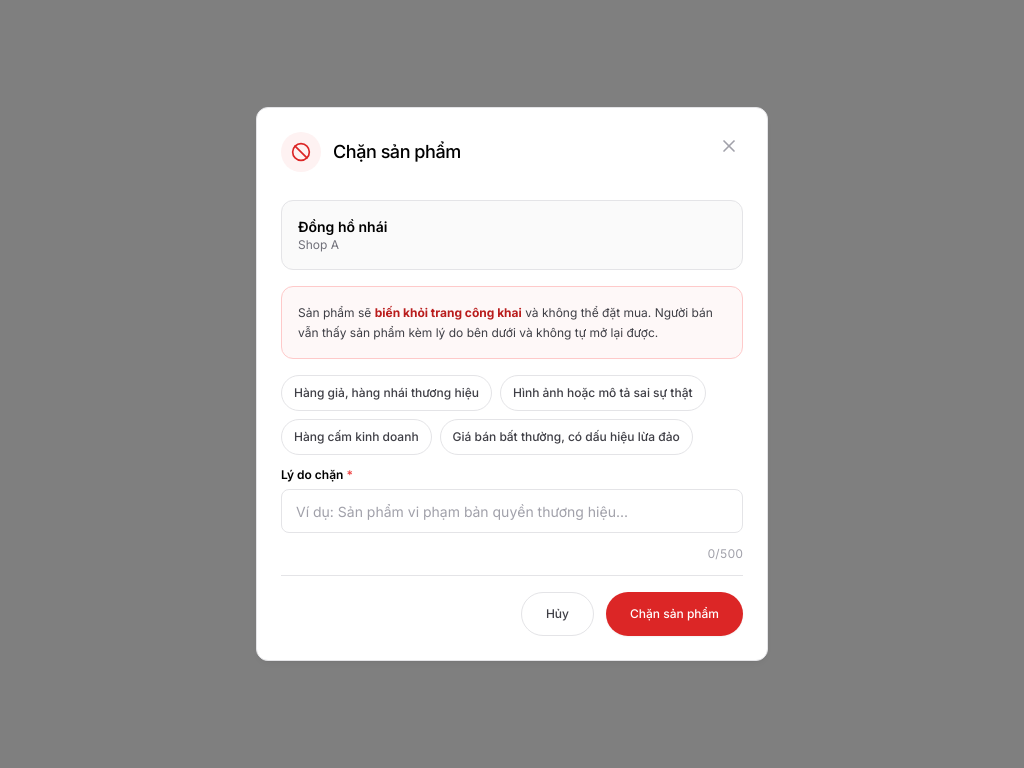
Test: BlockProductDialog › lý do quá ngắn: báo lỗi
Type "abc" into the field labelled "Lý do chặn" at (512, 511), box [281,489,743,533]
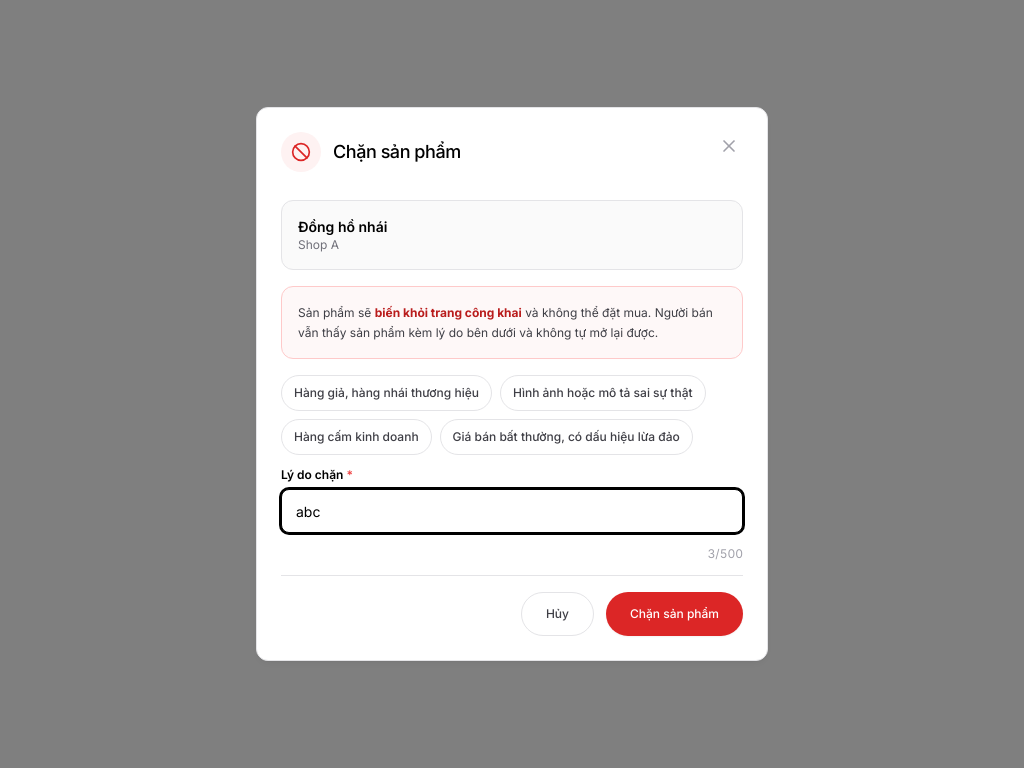
Click the button "Chặn sản phẩm" at (674, 614), box [606,592,743,636]
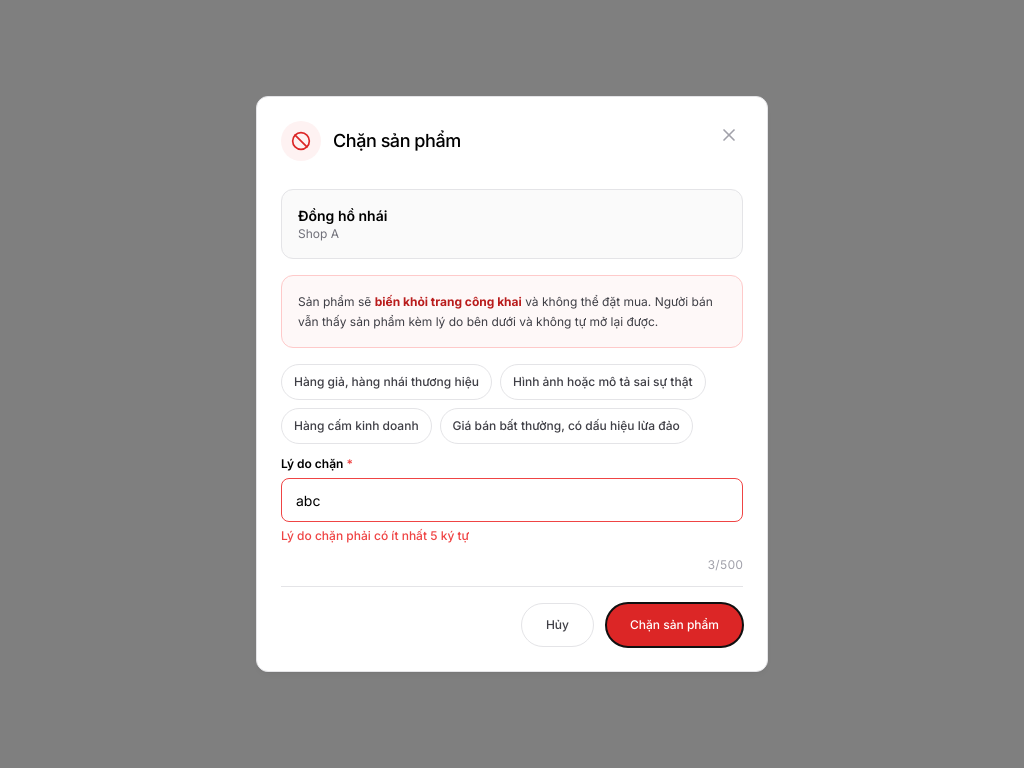
Check: the text "Lý do chặn phải có ít nhất 5 ký tự" is shown, box [281,528,469,543]
